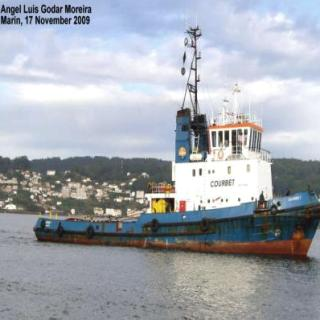Tug Boat: (41, 14, 320, 254)
